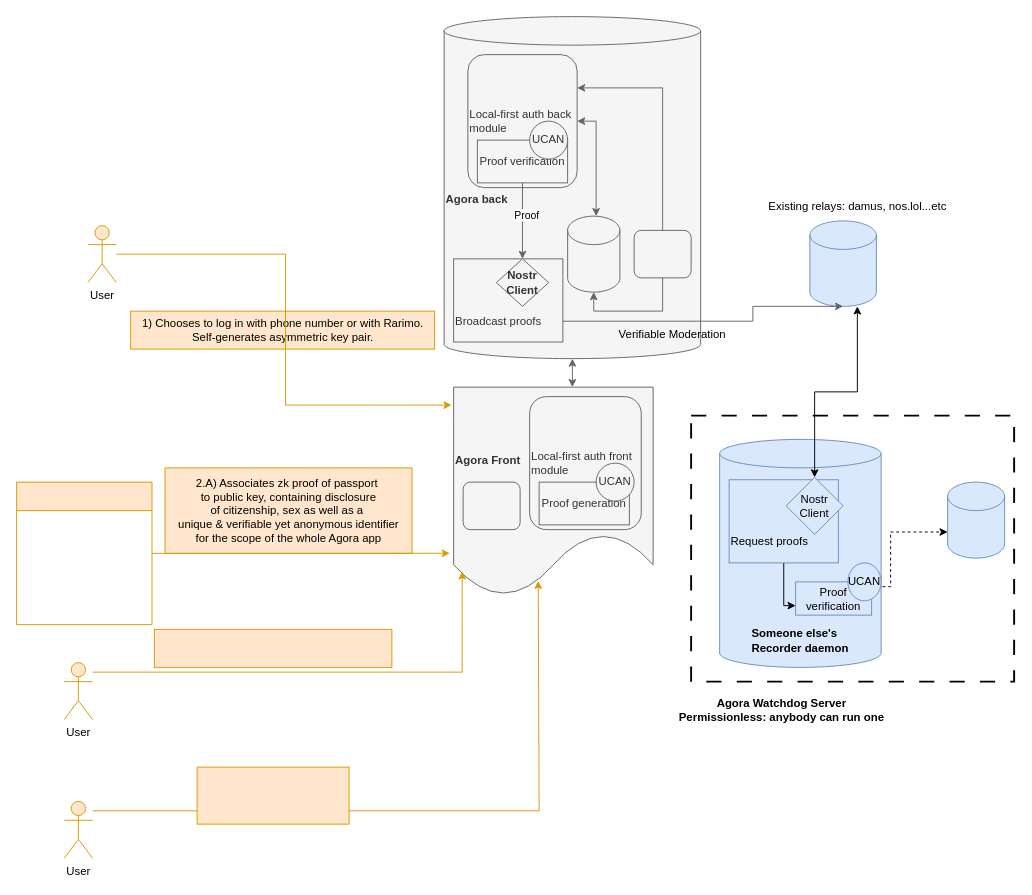
This 1032x895 diagram has some shape labels left out. The centre of each missing label's shape, as x and y in pixels:
2.B) Verifies phone number's ownership. Associates phone number with public key.: the point at 272,647
3) Use local-first account (pub key & signatures) to interact with app: the point at 272,795
Agora's own DB: the point at 593,253
HTTP API: the point at 662,253
Someone else's Nostr Relay: the point at 842,263
Someone else's own DB: the point at 976,519
UI & API Interaction: the point at 491,505
User's Rarimo Wallet: the point at 84,553
